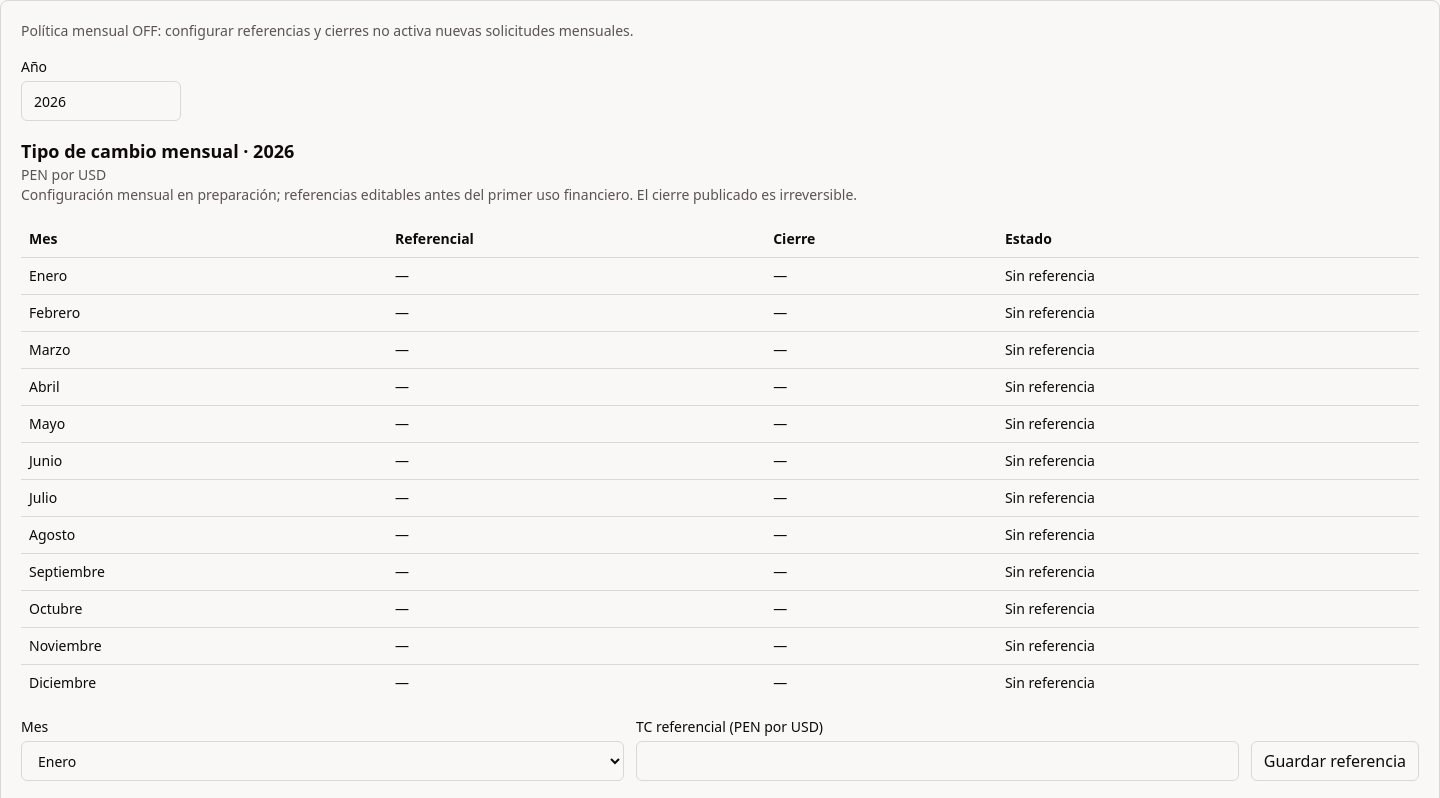
Scenario: MonthlyFxCatalogSection › muestra carga y año vacío sin inferir tasas; política OFF no tiene control de activación
The width and height of the screenshot is (1440, 798).
Expected: the text "Configuración mensual en preparación" is shown, [21,185,857,204]
Expected: the text "Política mensual OFF" is shown, [21,21,634,40]
Replace the text in the number field labelled "Año" with "2027" at (101, 101), box [21,81,181,121]
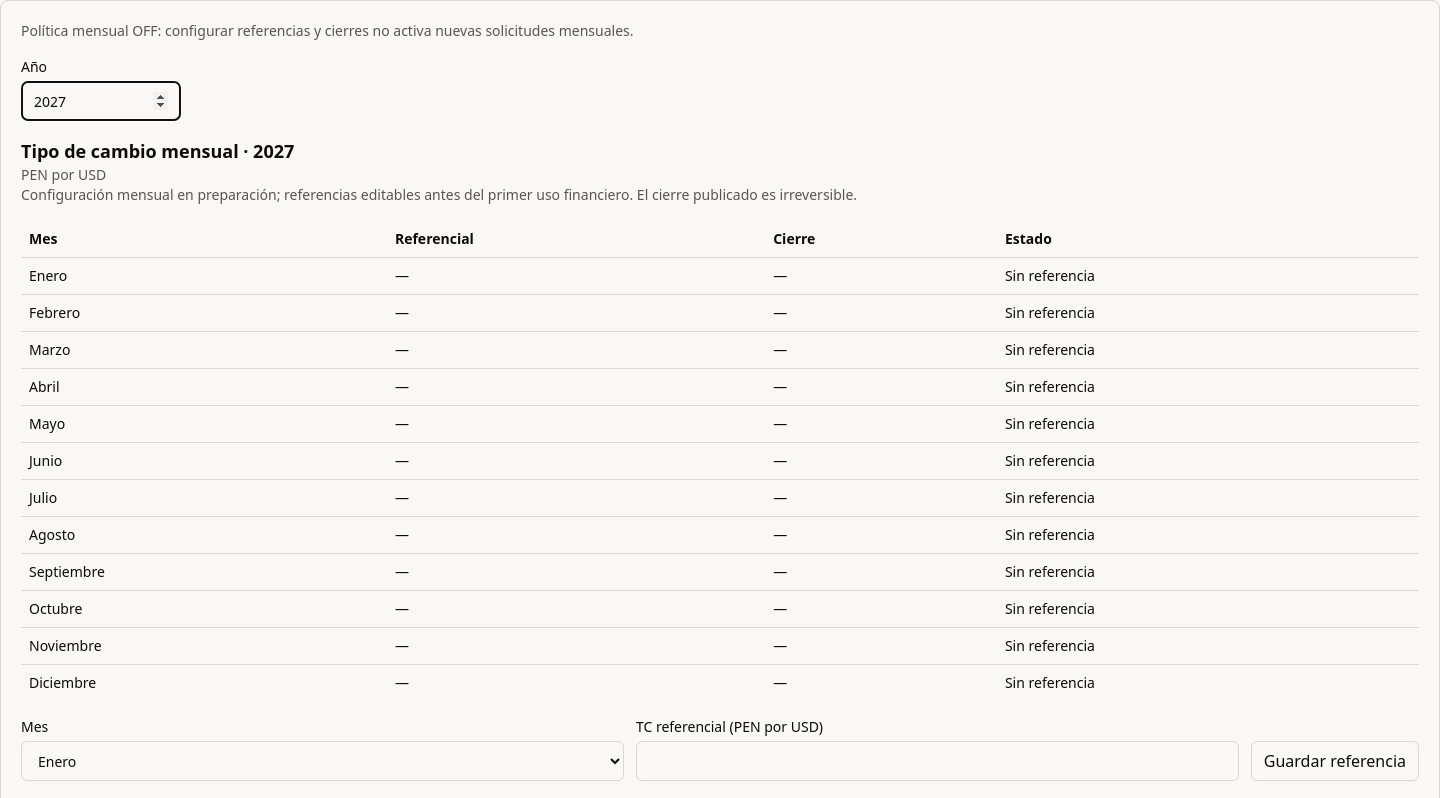
Expected: the heading "Tipo de cambio mensual · 2027" is shown, [21,139,294,163]
